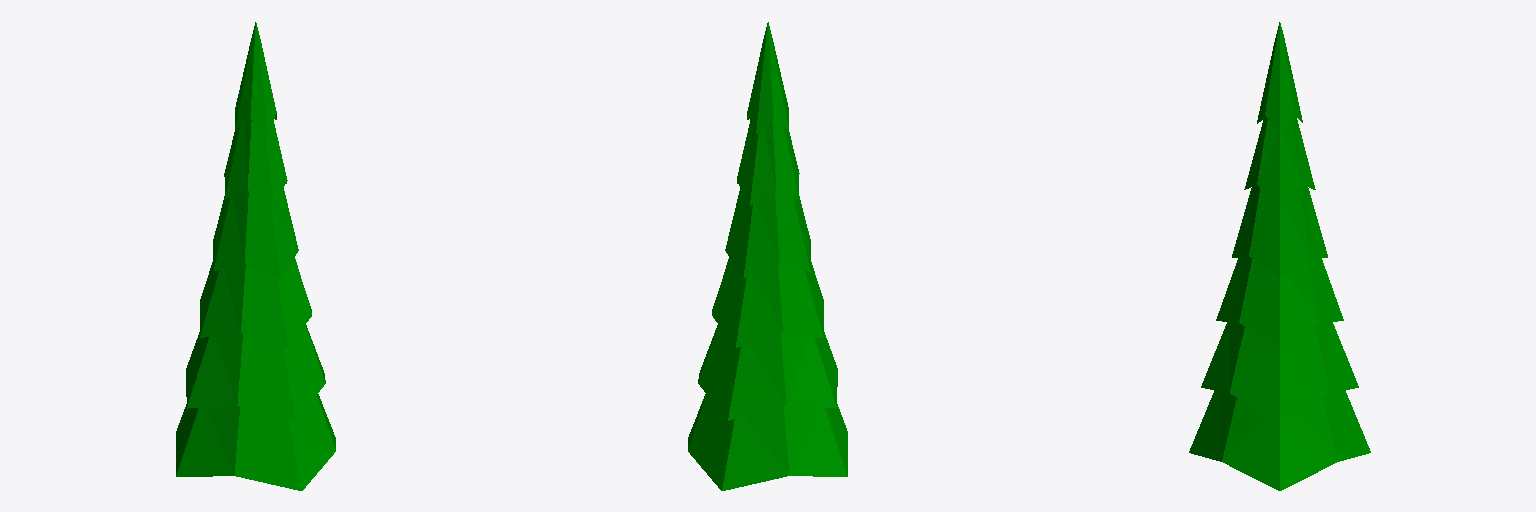
robot.urdf — tree1:
<?xml version="1.0"?>
  <robot name="tree1">

<link name="base_link">
     <visual>
       <!-- <origin xyz="-4 -3 0"/> -->
        <geometry>
        <mesh filename="package://world_model_description/meshes/tanne1.dae"/>
        </geometry>
     </visual> 
   
     <collision>
       <geometry>
	 <mesh filename="package://world_model_description/meshes/tanne1.dae"/>
       </geometry>
     </collision>

<!-- <collision>-->
      <!--<origin xyz="-4 -3 0"/> -->     
<!--       <geometry>
       <box size="1 1 2"/>
       </geometry>
 </collision>
<collision>
        <origin xyz="0 0 2.5"/>      
       <geometry>    
        <sphere radius="2"/>
       </geometry>
</collision>-->
 <inertial>
       <mass value="1" />
	<inertia ixx="1.0" ixy="0.0" ixz="0.0" iyy="1.0" iyz="0.0" izz="1.0" />
       </inertial>
</link>

   <gazebo>
     <static>true</static>
   </gazebo>

</robot>

--- What the picture shows (computed from the rendered views, not written in the file) ---
Views: 3 orthographic renders of the robot side by side, from view 1: azimuth 30°, elevation 25°; view 2: azimuth 150°, elevation 25°; view 3: azimuth 270°, elevation 25°.
Model tree1 with 1 links and 0 joints (none), rooted at base_link, posed all joints at 0.
Links seen in each view (by area): view 1: base_link; view 2: base_link; view 3: base_link.
Boxes of the visible links, x1,y1,x2,y2 form: base_link: (176,22,335,490); base_link: (688,22,847,490); base_link: (1189,22,1370,490).
Bounding box of the posed robot: 3.8 × 3.8 × 10.17 m (x, y, z).
1 mesh visuals loaded from 1 distinct referenced files (1 Collada DAE).
